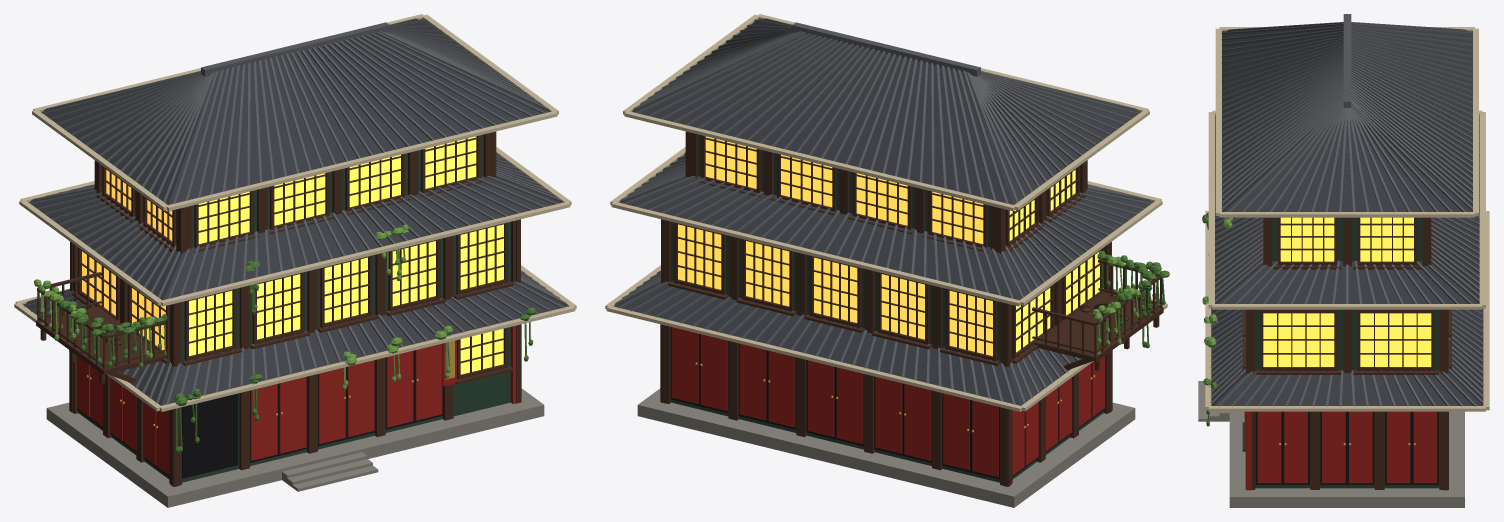
The model's file is amei-teahouse.glb.
The picture shows the model from 3 angles, left to right: view 1: azimuth 30°, elevation 25°; view 2: azimuth 150°, elevation 25°; view 3: azimuth 270°, elevation 25°; orthographic projection. The views are drawn at different scales.
Visible parts, largest first — view 1: amei_roof, amei_ridge, amei_wood, amei_glow, amei_red, amei_trim, amei_stone, amei_wall, amei_black, amei_leaf_a, amei_leaf_b; view 2: amei_roof, amei_ridge, amei_wood, amei_red, amei_glow, amei_trim, amei_stone, amei_wall, amei_black, amei_leaf_a, amei_leaf_b; view 3: amei_ridge, amei_roof, amei_wood, amei_trim, amei_glow, amei_red, amei_stone, amei_wall, amei_black, amei_leaf_b.
Part boxes in pixels (x1=…): amei_roof: x1=23, y1=19, x2=567, y2=405; amei_ridge: x1=24, y1=18, x2=566, y2=404; amei_wood: x1=36, y1=131, x2=521, y2=486; amei_glow: x1=82, y1=136, x2=503, y2=374; amei_red: x1=77, y1=324, x2=521, y2=475; amei_trim: x1=14, y1=14, x2=576, y2=411; amei_stone: x1=46, y1=388, x2=544, y2=507; amei_wall: x1=78, y1=134, x2=510, y2=482; amei_black: x1=77, y1=350, x2=443, y2=478; amei_leaf_a: x1=59, y1=260, x2=536, y2=453; amei_leaf_b: x1=34, y1=224, x2=452, y2=390; amei_roof: x1=614, y1=18, x2=1155, y2=405; amei_ridge: x1=615, y1=18, x2=1155, y2=404; amei_wood: x1=660, y1=131, x2=1163, y2=486; amei_red: x1=671, y1=327, x2=1104, y2=477; amei_glow: x1=678, y1=136, x2=1099, y2=356; amei_trim: x1=605, y1=14, x2=1167, y2=411; amei_stone: x1=637, y1=388, x2=1135, y2=507; amei_wall: x1=671, y1=134, x2=1103, y2=482; amei_black: x1=670, y1=327, x2=1104, y2=479; amei_leaf_a: x1=1097, y1=251, x2=1169, y2=348; amei_leaf_b: x1=1091, y1=256, x2=1140, y2=354; amei_ridge: x1=1210, y1=14, x2=1484, y2=406; amei_roof: x1=1211, y1=25, x2=1483, y2=405; amei_wood: x1=1242, y1=217, x2=1451, y2=490; amei_trim: x1=1205, y1=27, x2=1489, y2=411; amei_glow: x1=1263, y1=217, x2=1431, y2=366; amei_red: x1=1244, y1=411, x2=1437, y2=490; amei_stone: x1=1198, y1=381, x2=1464, y2=507; amei_wall: x1=1255, y1=217, x2=1439, y2=488; amei_black: x1=1255, y1=411, x2=1438, y2=484; amei_leaf_b: x1=1202, y1=217, x2=1232, y2=347.
Bounding box in the file's own units: 14.69 × 11.5 × 8.41.
